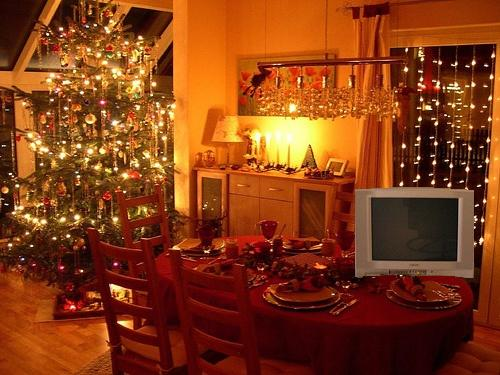tampered: (356, 188, 474, 278)
